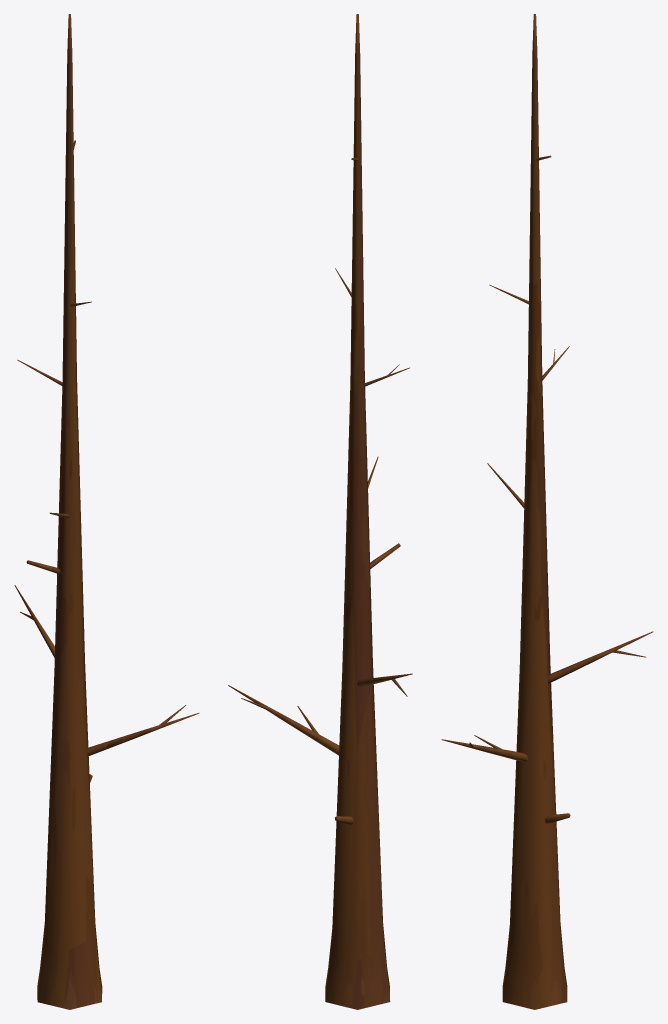
File: STColumnar5.glb
3 renders of one model, left to right at view 1: azimuth 30°, elevation 25°; view 2: azimuth 210°, elevation 25°; view 3: azimuth 270°, elevation 25°, orthographic.
Parts seen in each view (by area): view 1: VertTreeDead; view 2: VertTreeDead; view 3: VertTreeDead.
Part boxes in pixels (x1,y1,x2,y2): VertTreeDead: (14,14,199,1009); VertTreeDead: (228,14,412,1009); VertTreeDead: (441,14,653,1009).
Bounding box in the file's own units: 1.68 × 12.28 × 2.41.
Materials: 1 (1 with a texture image).
